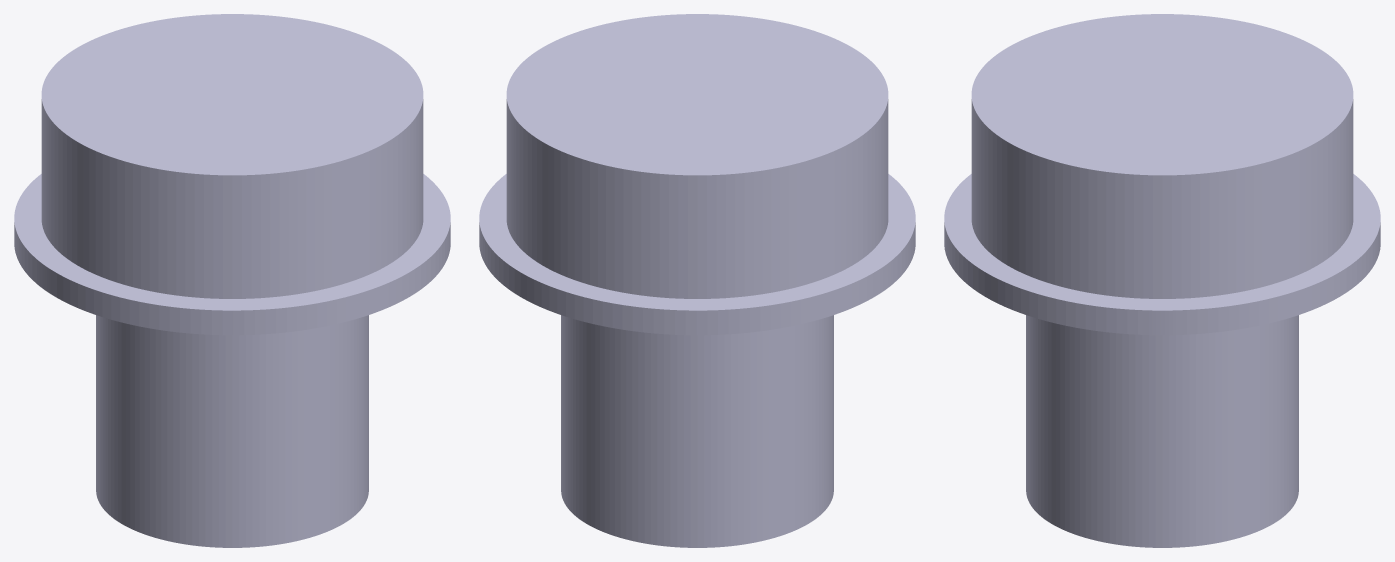
Rendered from mini_rocket_main_engine.dae.
3 views of the same model, side by side, from view 1: azimuth 30°, elevation 25°; view 2: azimuth 150°, elevation 25°; view 3: azimuth 270°, elevation 25° (orthographic).
Visible parts, largest first — view 1: node0; view 2: node0; view 3: node0.
Part boxes in pixels (bbox=[...]): node0: bbox=[14, 14, 450, 547]; node0: bbox=[479, 14, 915, 547]; node0: bbox=[944, 14, 1380, 547].
Bounding box in the file's own units: 0.08 × 0.08 × 0.08.
